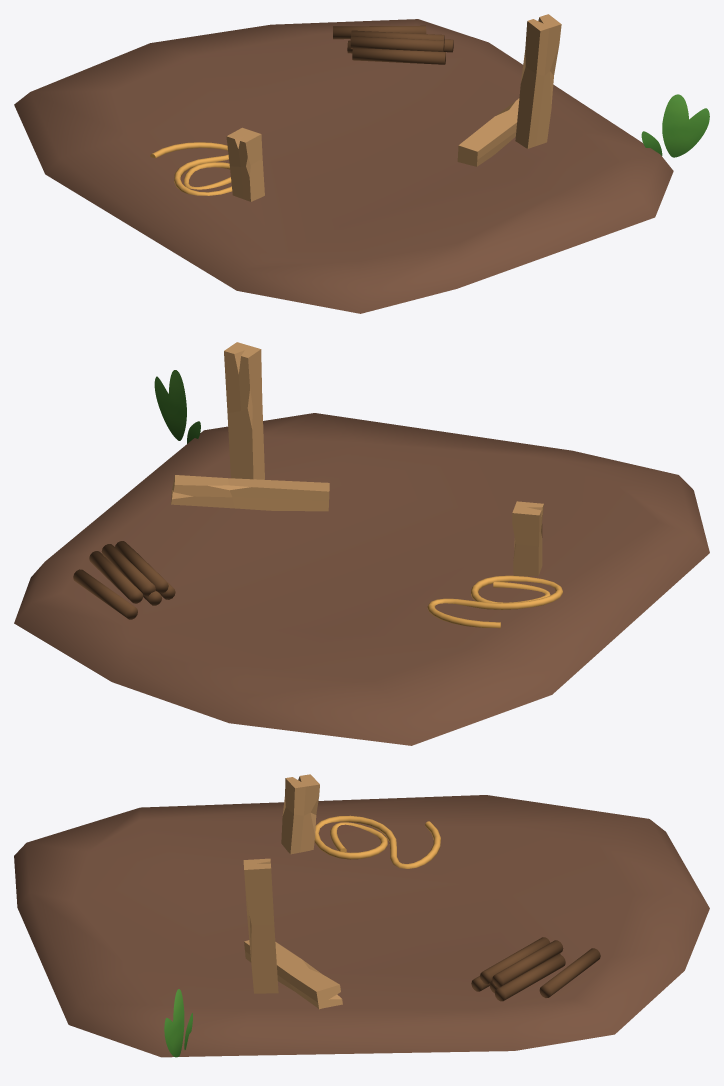
Rendered from SM_Construction_02.fbx.
3 views of the same model, one above another, from view 1: azimuth 30°, elevation 25°; view 2: azimuth 150°, elevation 25°; view 3: azimuth 270°, elevation 25° (orthographic). The views are drawn at different scales.
Visible parts, largest first — view 1: Cube.182, Cube.464, Cylinder.016, Grass.012, BezierCurve.006; view 2: Cube.182, Cube.464, Cylinder.016, BezierCurve.006, Grass.012; view 3: Cube.182, Cube.464, Cylinder.016, BezierCurve.006, Grass.012.
Part boxes in pixels (x1,y1,x2,y2): Cube.182: [14, 19, 673, 313]; Cube.464: [226, 14, 561, 201]; Cylinder.016: [333, 25, 453, 64]; Grass.012: [641, 94, 709, 157]; BezierCurve.006: [150, 142, 232, 195]; Cube.182: [14, 413, 709, 745]; Cube.464: [171, 342, 543, 576]; Cylinder.016: [73, 541, 175, 619]; BezierCurve.006: [427, 575, 562, 628]; Grass.012: [154, 370, 200, 443]; Cube.182: [14, 795, 709, 1057]; Cube.464: [243, 774, 342, 1009]; Cylinder.016: [471, 937, 600, 1001]; BezierCurve.006: [314, 815, 440, 868]; Grass.012: [164, 989, 192, 1057].
Size of the model in its own units: 11.32 by 2.92 by 12.3.
